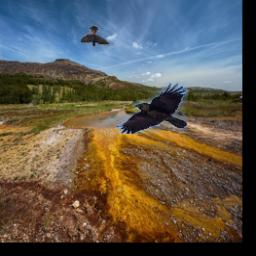Crow: (116, 82, 187, 134)
Swallow: (80, 25, 110, 46)
